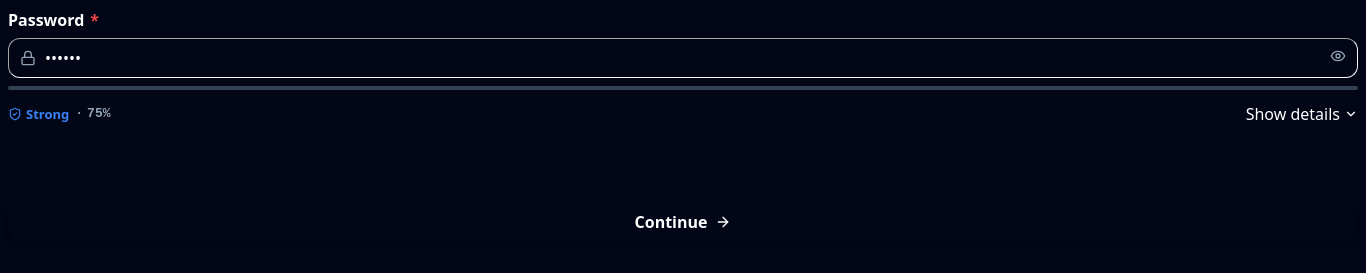
it: Phase 4 — Density & Embedded UI Integration Tests › allows expanding and collapsing requirement details in compact mode
Click the button "Show details" at {"x": 1302, "y": 114}, box [1246, 103, 1358, 125]
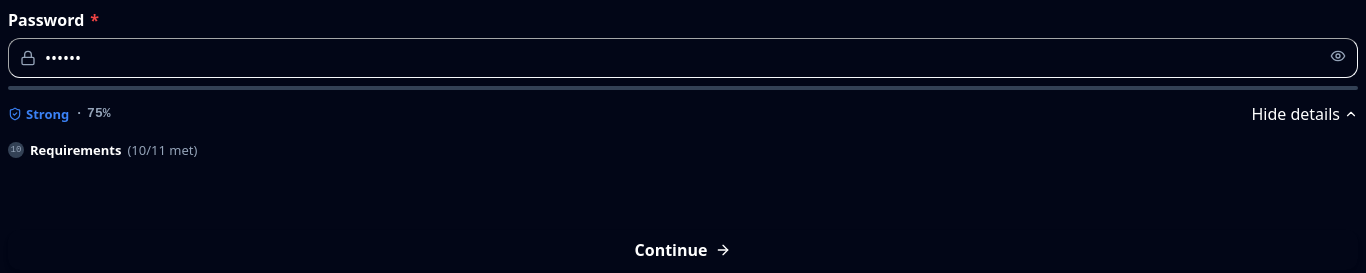
Check: the button "Hide details" is expanded
Check: the text "Hide details" is shown, box [1252, 103, 1340, 125]
Click the button "Hide details" at {"x": 1305, "y": 114}, box [1252, 103, 1358, 125]
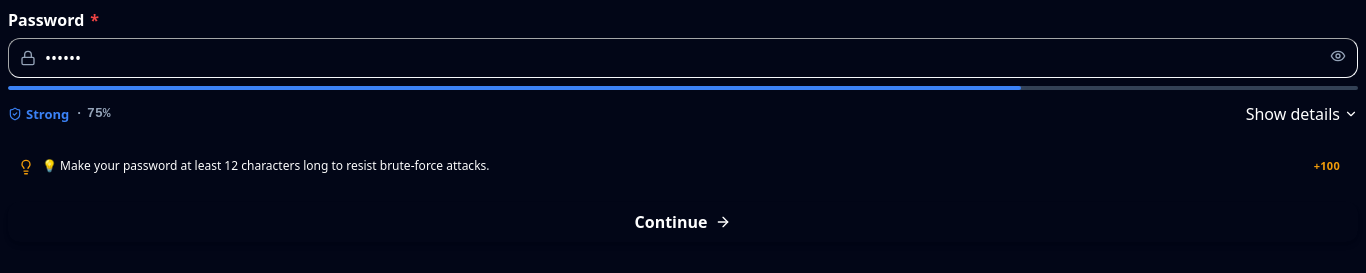
Check: the button "Show details" is collapsed, box [1246, 103, 1358, 125]
Check: the text "Show details" is shown, box [1246, 103, 1340, 125]
